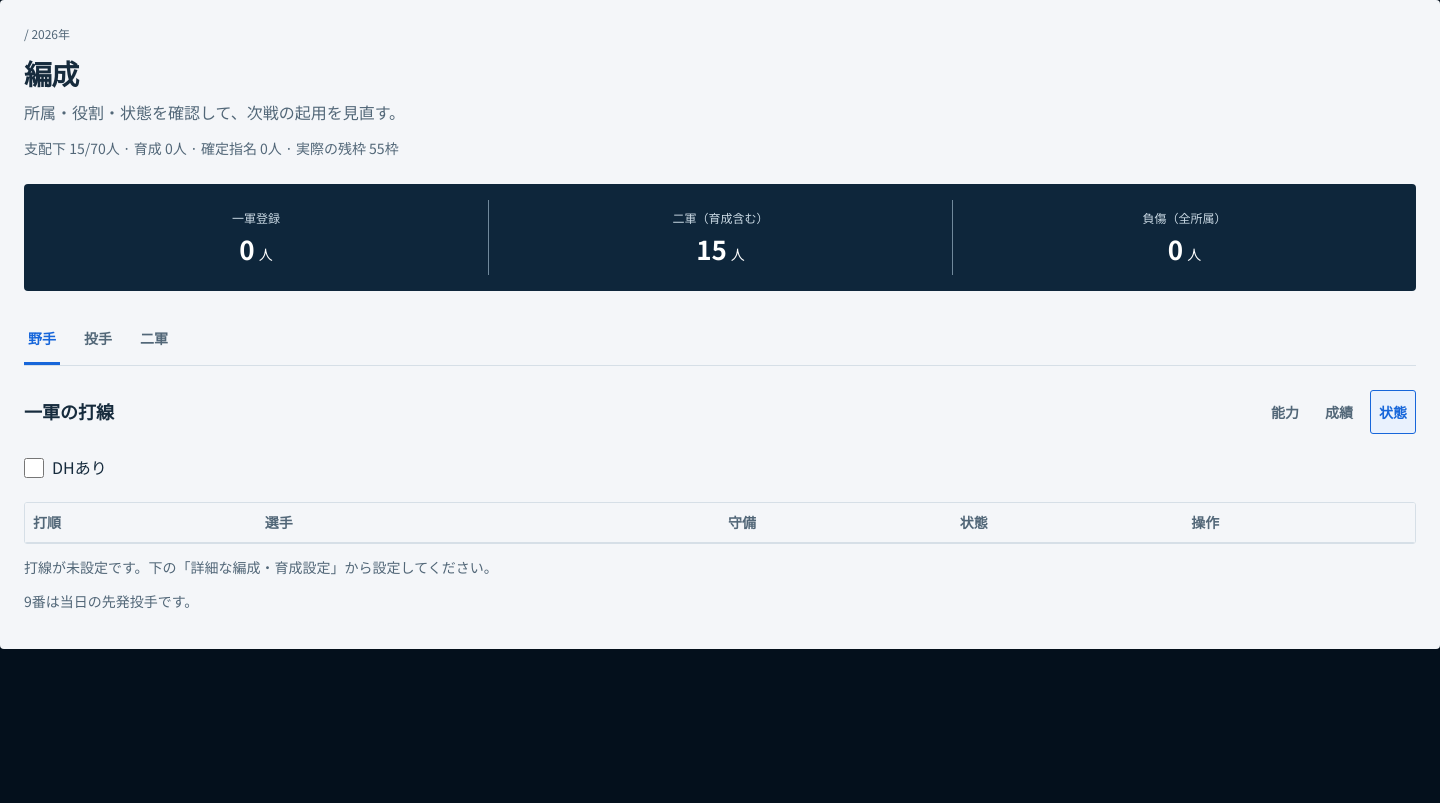
Test: allows mobile farm records to be reached without opening advanced roster settings
Click the button "二軍" at (154, 340), box [136, 315, 172, 364]
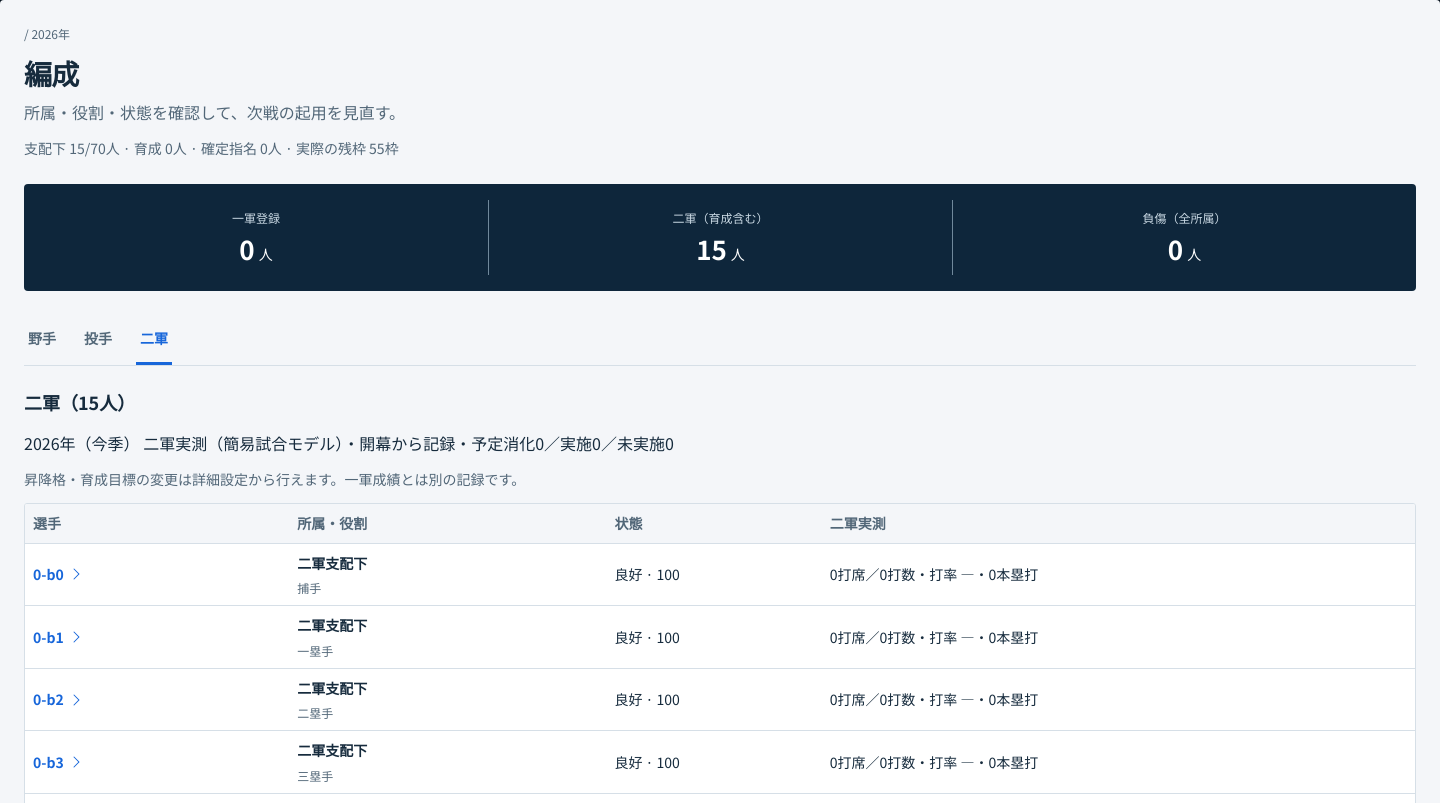
Expected: the number of "FarmRecordSummary" components is 15
